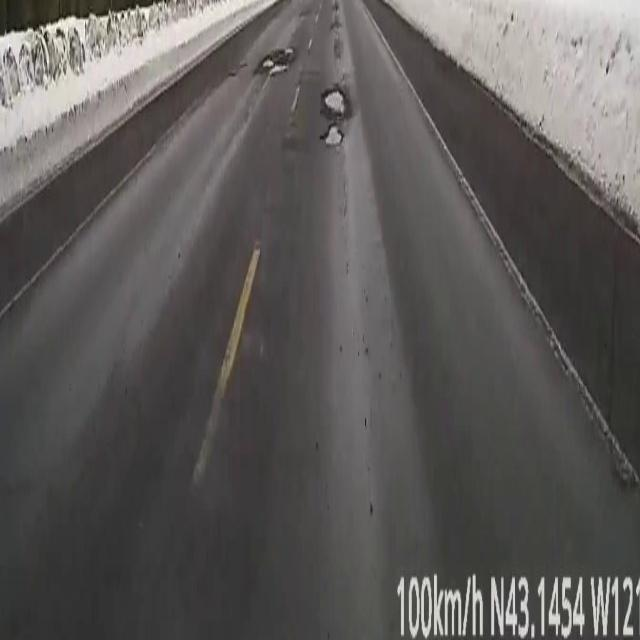pothole: (320, 84, 350, 150), (258, 46, 294, 76)
